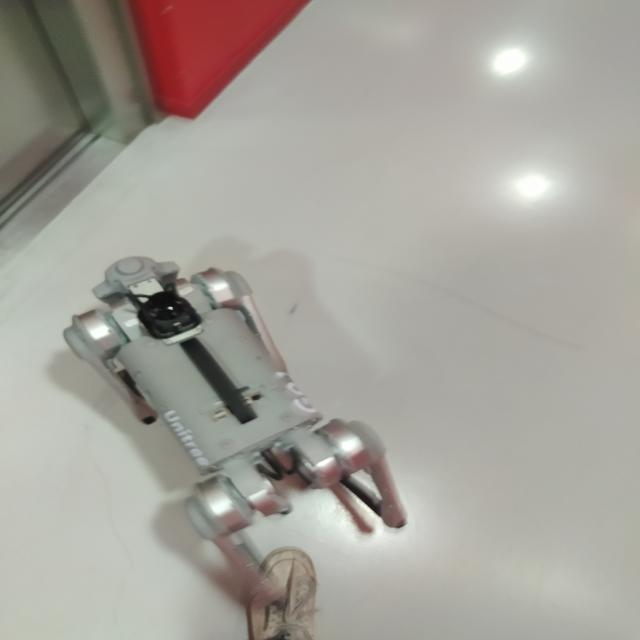unitree-go1-robot: (54, 248, 431, 617)
